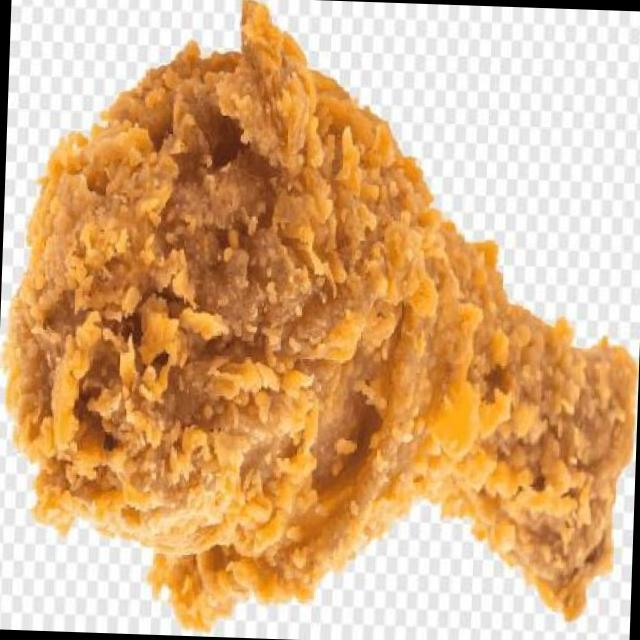Fried Chicken: (0, 0, 639, 631)
